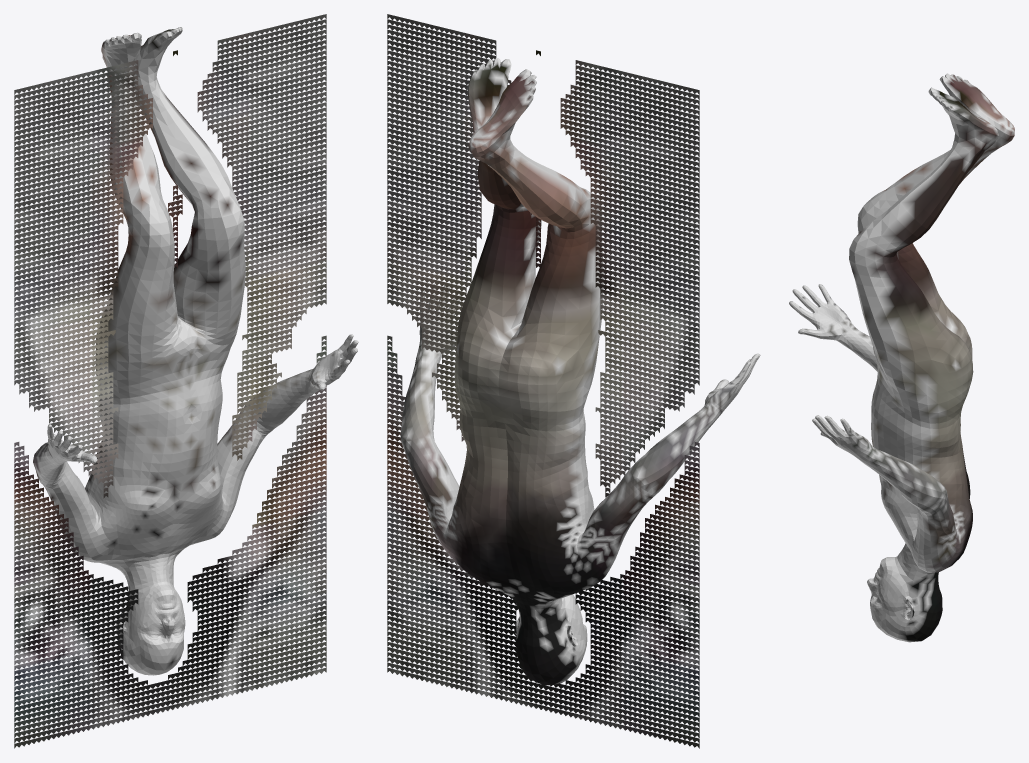
The model's file is 0001_c1s1_001051_03.jpg.obj.
3 views of the same model, side by side, from view 1: azimuth 30°, elevation 25°; view 2: azimuth 150°, elevation 25°; view 3: azimuth 270°, elevation 25° (orthographic). The views are drawn at different scales.
Size of the model in its own units: 0.9663 by 1.91 by 0.6504.
